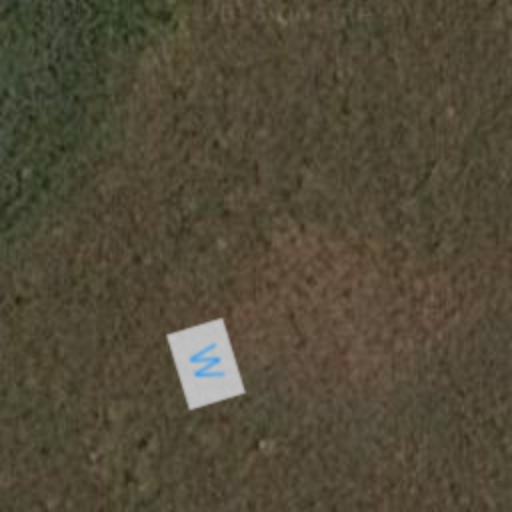rectangle: (156, 314, 256, 414)
